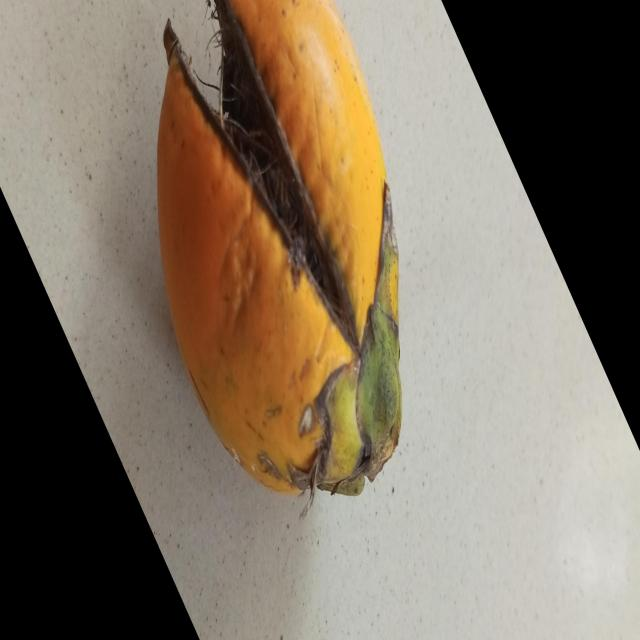damaged: (155, 0, 404, 498)
